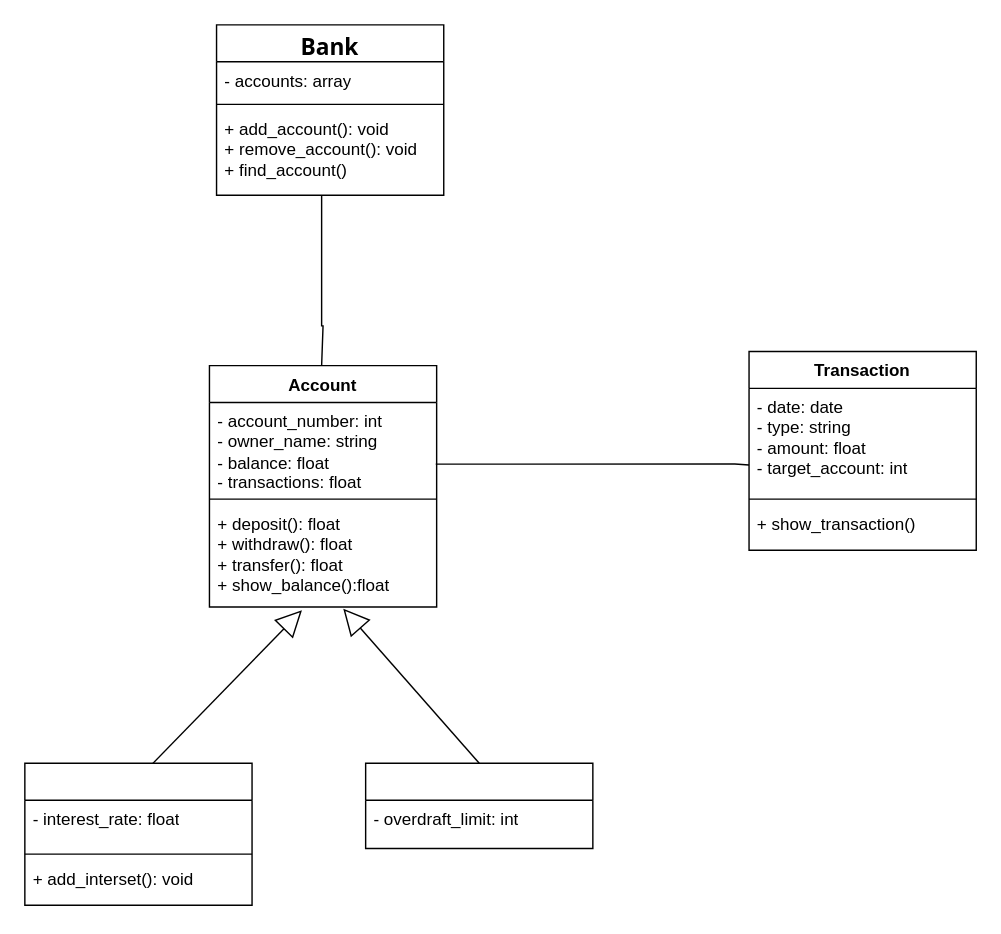
Image size: 1001x934. Some labels were removed from this diagram. Each missing label, with the box of its shape:
CheckingAccount: (364, 762, 593, 848)
SavingsAccount: (23, 762, 252, 905)
